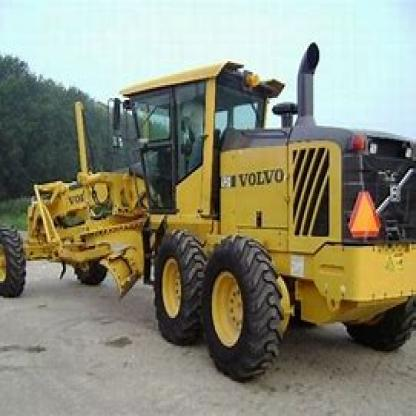bull_dozer/loader/grader: (1, 53, 414, 387)
